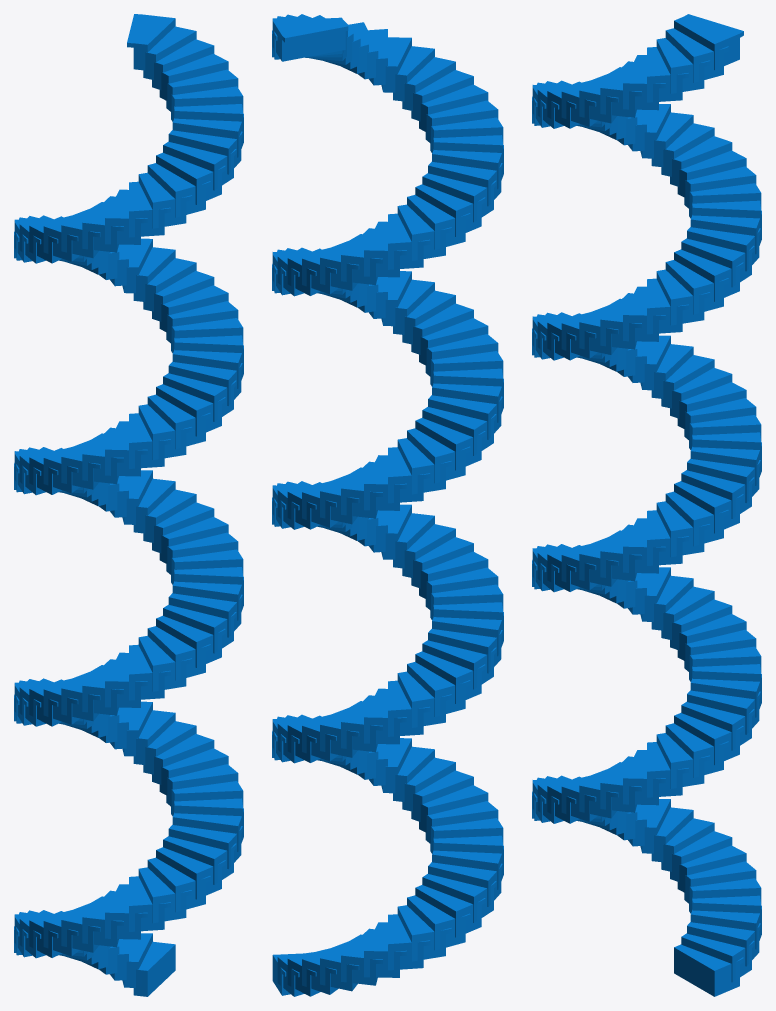
Rendered from Stairs_with_Gradient.fbx.
The picture shows the model from 3 angles, left to right: view 1: azimuth 30°, elevation 25°; view 2: azimuth 150°, elevation 25°; view 3: azimuth 270°, elevation 25°; orthographic projection.
Visible parts, largest first — view 1: pPipe220; view 2: pPipe220; view 3: pPipe220.
Boxes of the visible parts, bbox=[...] form: pPipe220: bbox=[14, 14, 243, 996]; pPipe220: bbox=[272, 14, 503, 996]; pPipe220: bbox=[532, 14, 761, 996].
Bounding box in the file's own units: 2.7 × 12.34 × 2.7.
